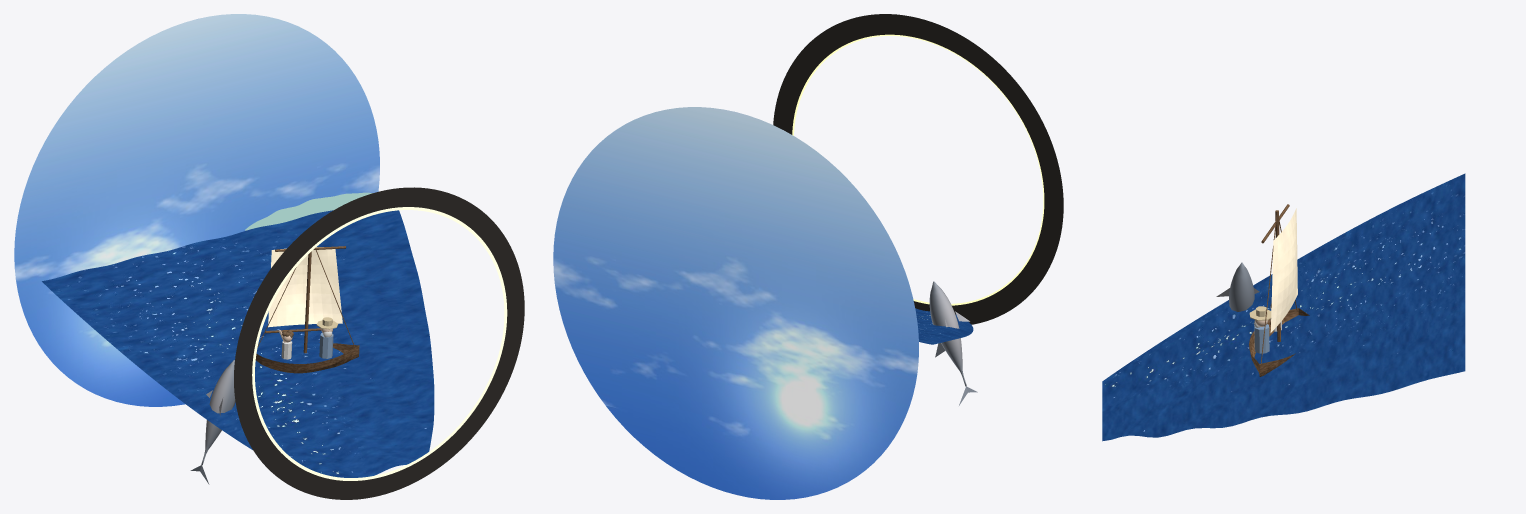
The model's file is activacion_02.glb.
3 renders of one model, left to right at view 1: azimuth 30°, elevation 25°; view 2: azimuth 150°, elevation 25°; view 3: azimuth 270°, elevation 25°, orthographic. The views are drawn at different scales.
Visible parts, largest first — view 1: cielo, mar, marco, vela, filo, isla, delfin_4, casco; view 2: cielo, marco, delfin_4, mar, filo; view 3: mar, vela, delfin_4, casco.
Boxes of the visible parts, x1,y1,x2,y2 form: cielo: (14,14,379,406); mar: (42,210,434,477); marco: (234,187,524,499); vela: (268,247,342,327); filo: (252,207,507,480); isla: (245,192,372,230); delfin_4: (190,360,235,484); casco: (255,342,359,373); cielo: (553,107,918,499); marco: (773,14,1063,324); delfin_4: (929,281,977,405); mar: (915,308,973,344); filo: (792,34,1044,305); mar: (1102,173,1465,441); vela: (1270,208,1297,332); delfin_4: (1216,262,1259,311); casco: (1249,308,1309,376).
Bounding box in the file's own units: 1.04 × 1.04 × 0.902.
Materials: 15 (4 with a texture image).
